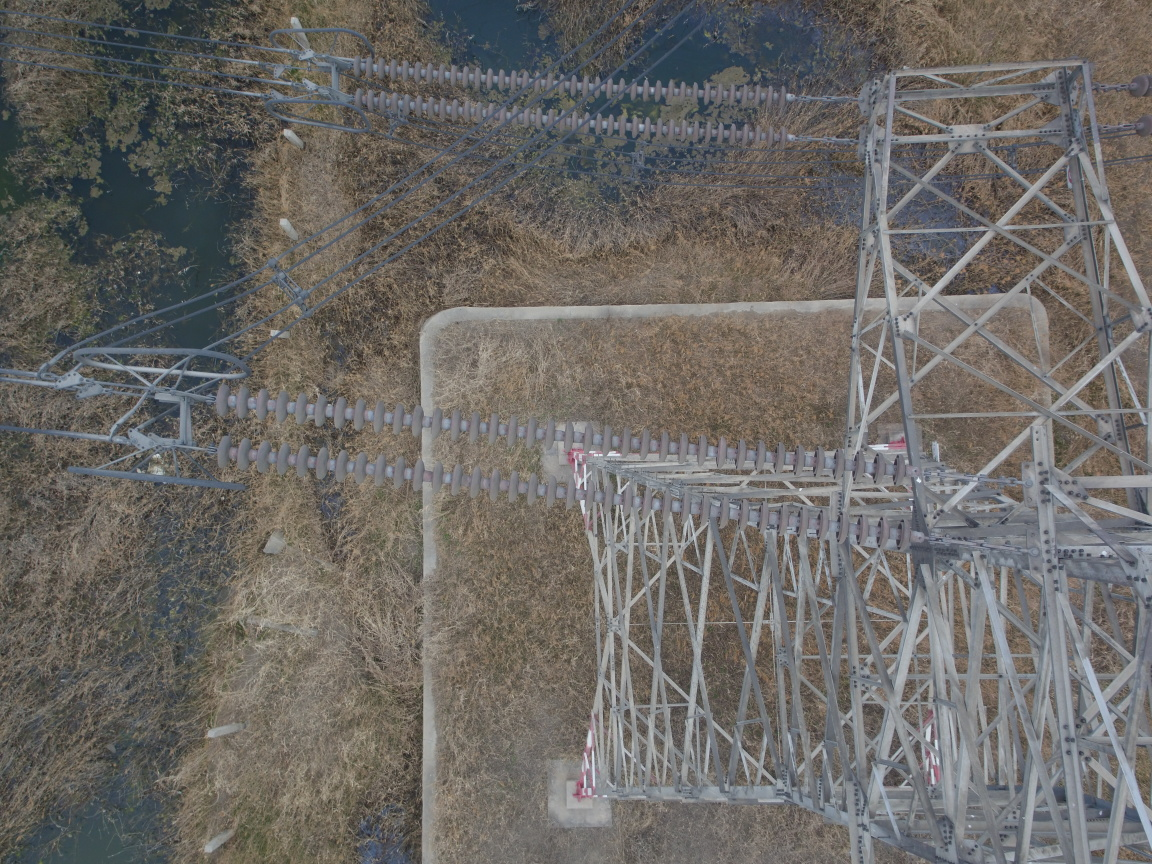insulator: (182, 387, 967, 558), (331, 53, 828, 148)
